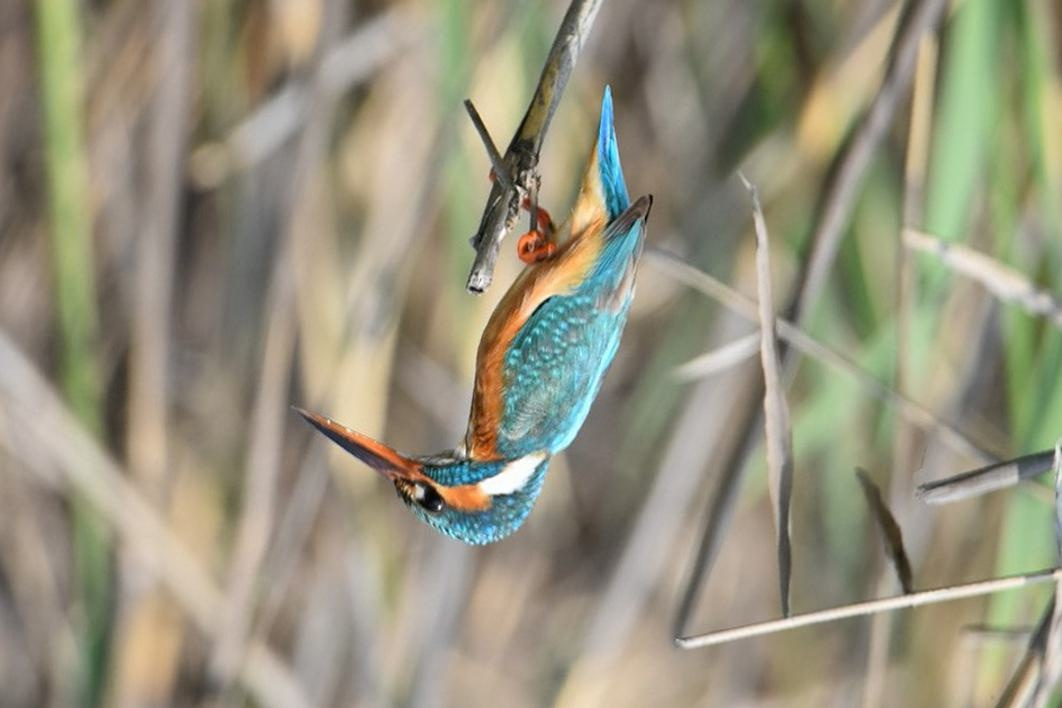kingfisher: (274, 113, 682, 555)
